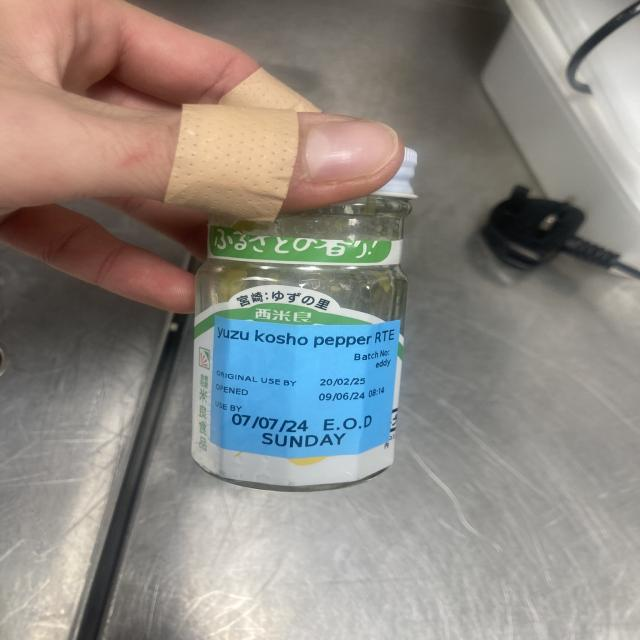product-labels: (208, 319, 401, 458)
